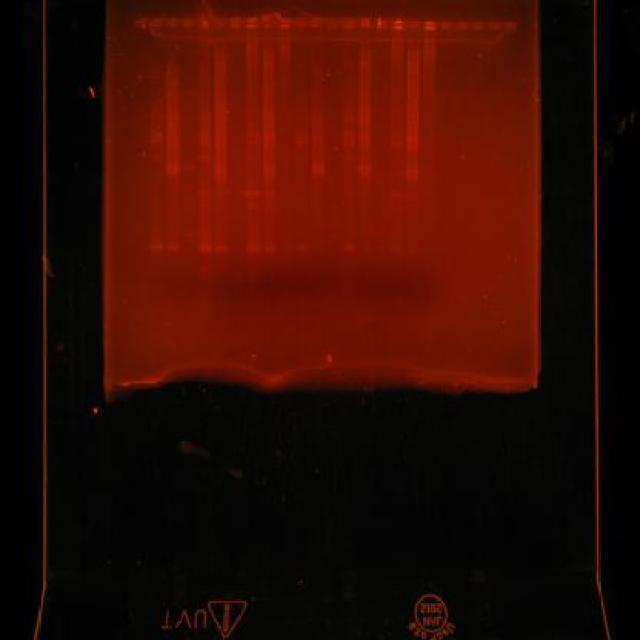B: (310, 162, 324, 176), (262, 164, 276, 178), (214, 163, 228, 177), (404, 167, 419, 180), (166, 162, 179, 176), (246, 243, 262, 254), (262, 243, 278, 254), (358, 164, 372, 176), (198, 243, 213, 254), (214, 243, 229, 254), (148, 242, 164, 252), (166, 243, 180, 254), (279, 242, 293, 253), (296, 243, 310, 252), (342, 244, 356, 252), (390, 246, 404, 254), (198, 153, 212, 161), (406, 194, 420, 202), (246, 190, 260, 198), (262, 190, 276, 198), (246, 200, 260, 208), (342, 138, 356, 146), (389, 140, 403, 148), (246, 138, 260, 146), (342, 153, 356, 161), (149, 138, 163, 146), (310, 134, 324, 142), (342, 115, 356, 122), (294, 114, 308, 120), (389, 192, 403, 198), (198, 190, 212, 196), (182, 164, 196, 170), (198, 140, 212, 146), (294, 140, 308, 146), (246, 131, 260, 137), (342, 131, 356, 137), (389, 133, 403, 139), (198, 114, 211, 120), (150, 152, 162, 158)
L: (132, 15, 520, 34)
Pc: (388, 19, 406, 30), (342, 17, 356, 31), (262, 14, 276, 28), (358, 16, 373, 29), (422, 18, 436, 31), (374, 18, 388, 31), (197, 16, 211, 29), (326, 16, 340, 29), (310, 16, 324, 29), (294, 16, 308, 29), (148, 17, 164, 28), (438, 20, 454, 31), (215, 16, 228, 29), (504, 20, 518, 32), (486, 20, 500, 31), (470, 20, 484, 31), (454, 20, 468, 31), (407, 19, 421, 30), (164, 17, 178, 28), (182, 17, 196, 28), (277, 17, 291, 28), (244, 17, 258, 28), (229, 17, 243, 28), (134, 17, 146, 28)
